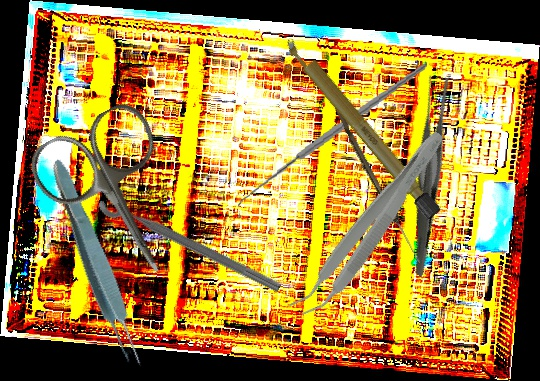Dressing Forceps: (353, 70, 501, 278)
Fixation Ring: (95, 181, 290, 298)
Hook Surgical: (224, 61, 442, 218)
Iris Scissors: (21, 95, 213, 303)
Scalpel Handle: (279, 31, 444, 223)
Surgical Spoon: (329, 104, 425, 265)
Tissue Forceps: (287, 120, 452, 327), (42, 154, 150, 375)
